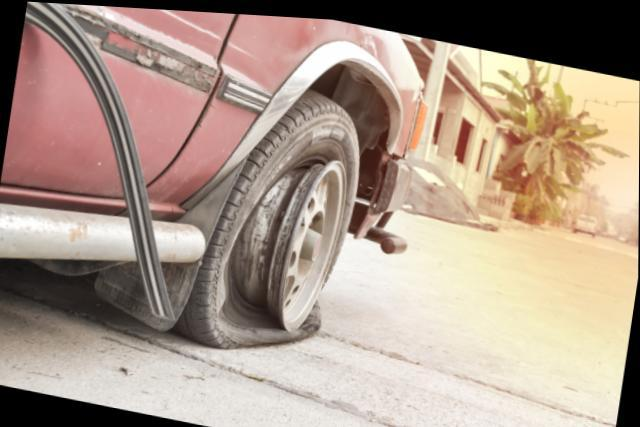tire flat: (174, 84, 360, 346)
